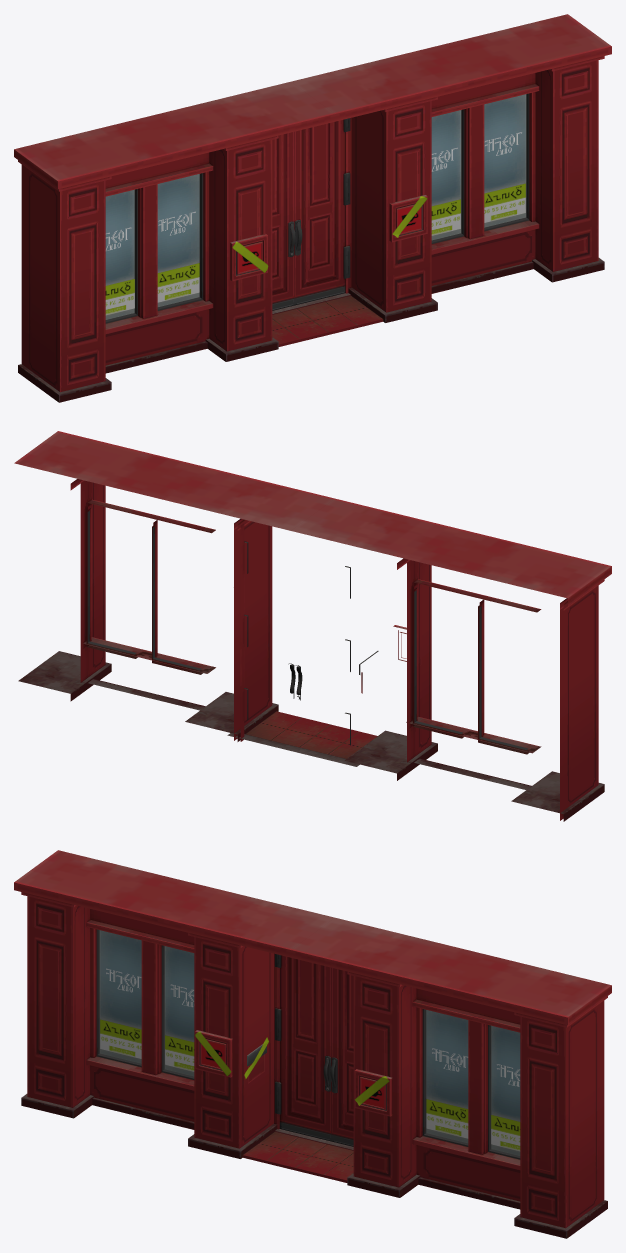
The model's file is t1_b_furadari.glb.
3 renders of one model, top to bottom at view 1: azimuth 30°, elevation 25°; view 2: azimuth 150°, elevation 25°; view 3: azimuth 330°, elevation 25°, orthographic.
Visible parts, largest first — view 1: um_t1_b_cafe_f_model_t1_b_cafe_f_modelShape; view 2: um_t1_b_cafe_f_model_t1_b_cafe_f_modelShape; view 3: um_t1_b_cafe_f_model_t1_b_cafe_f_modelShape.
Part boxes in pixels (x1=…): um_t1_b_cafe_f_model_t1_b_cafe_f_modelShape: x1=14, y1=14, x2=611, y2=402; um_t1_b_cafe_f_model_t1_b_cafe_f_modelShape: x1=14, y1=431, x2=611, y2=821; um_t1_b_cafe_f_model_t1_b_cafe_f_modelShape: x1=14, y1=850, x2=611, y2=1238.
Bounding box in the file's own units: 9.73 × 3.79 × 1.34.
1 material, 1 textured.
